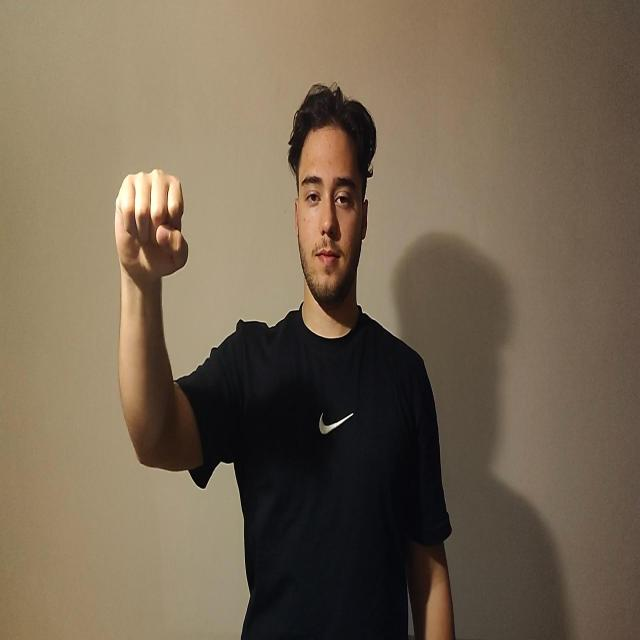yes: (114, 167, 189, 288)
